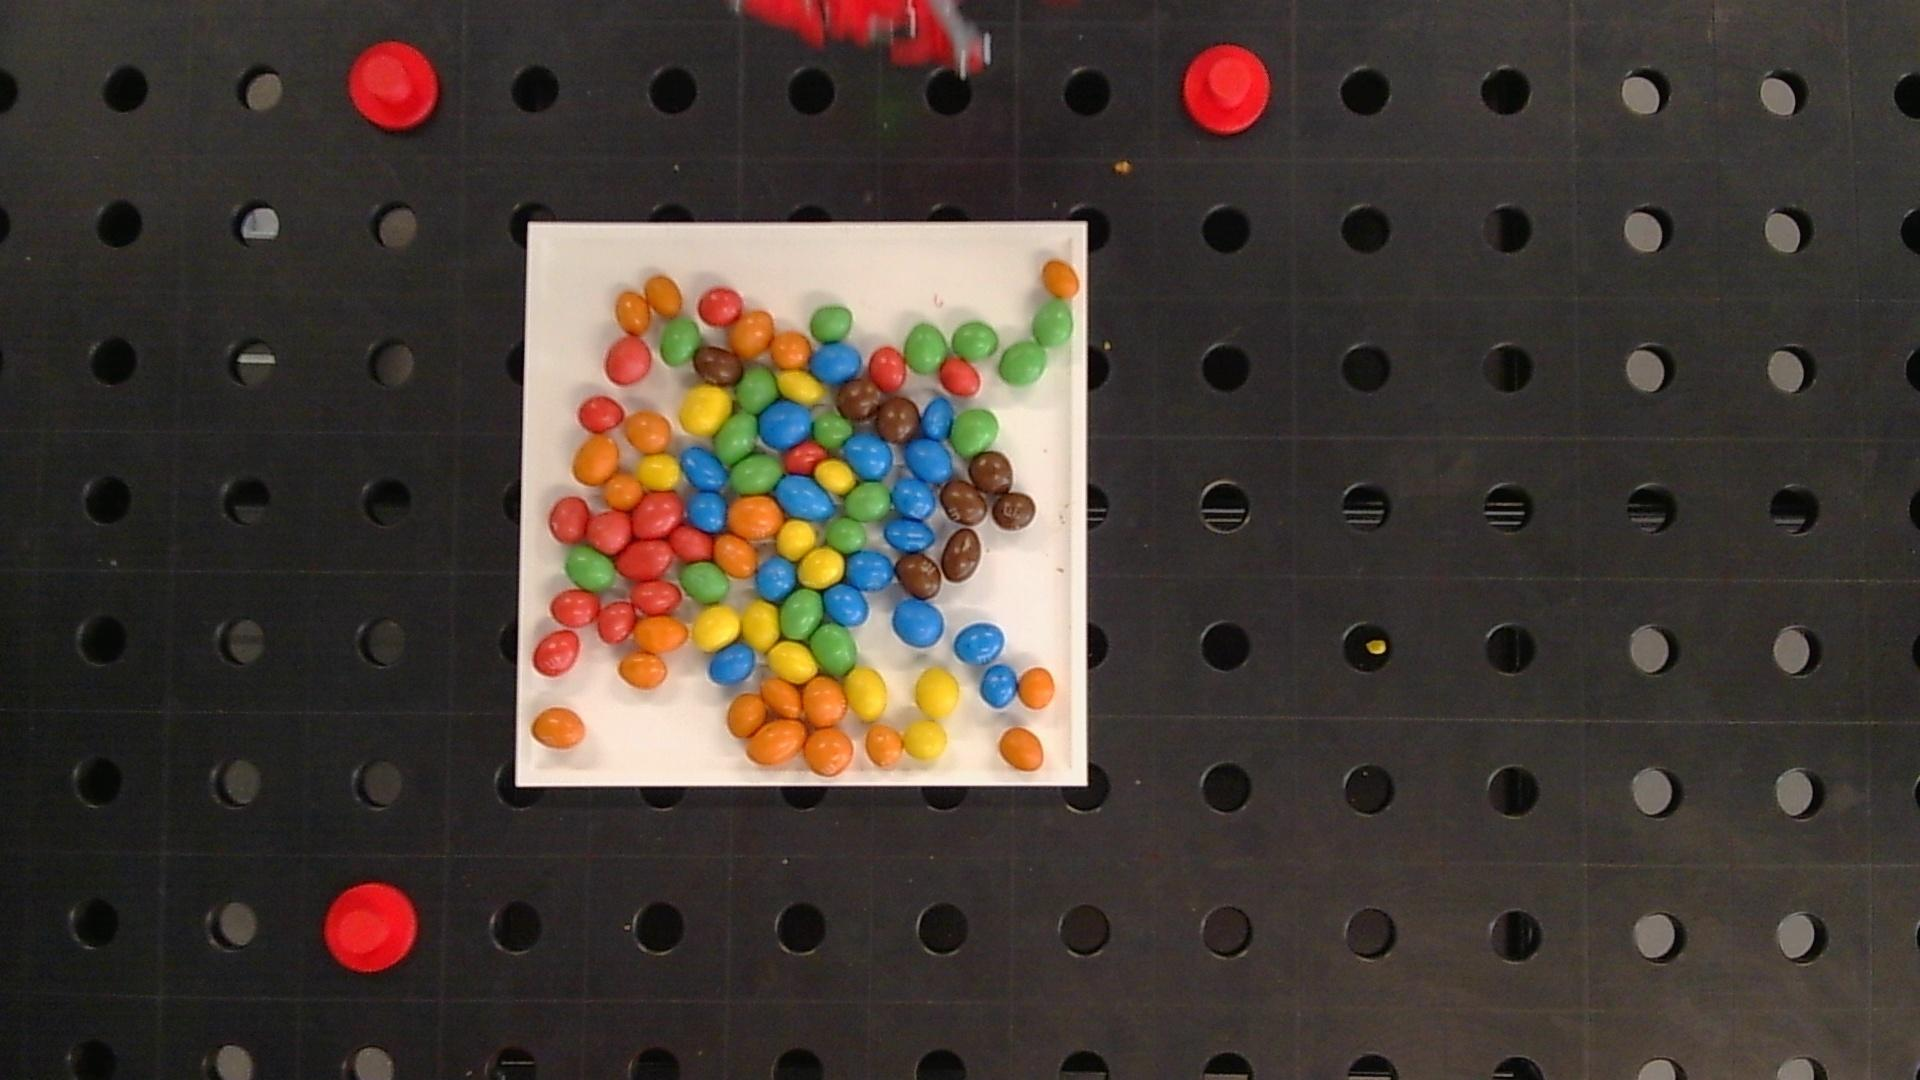blue: (777, 473, 835, 520), (893, 599, 944, 646), (760, 402, 812, 448), (844, 434, 891, 479), (905, 438, 952, 483), (955, 622, 1005, 665), (891, 477, 938, 520), (845, 551, 894, 591), (811, 344, 862, 381), (824, 584, 869, 626), (708, 644, 756, 683), (682, 448, 727, 489), (757, 556, 796, 600), (885, 518, 935, 553), (980, 665, 1018, 708), (687, 492, 727, 530), (922, 400, 953, 440)
brown: (940, 529, 981, 582), (942, 480, 988, 525), (897, 554, 942, 599), (877, 398, 920, 442), (837, 378, 881, 421), (969, 452, 1011, 493), (992, 492, 1036, 530), (696, 347, 742, 384)
green: (812, 622, 857, 674), (564, 547, 616, 591), (735, 363, 778, 414), (953, 410, 998, 458), (905, 324, 947, 373), (998, 343, 1047, 385), (781, 589, 823, 638), (715, 413, 757, 462), (680, 563, 731, 604), (731, 454, 782, 493), (1033, 301, 1073, 347), (661, 319, 700, 364), (845, 483, 890, 521), (952, 322, 998, 357), (811, 306, 853, 343), (828, 517, 866, 554), (812, 413, 852, 448)
orange: (746, 719, 806, 765), (804, 728, 855, 775), (731, 496, 782, 538), (531, 708, 585, 748), (574, 436, 618, 484), (803, 678, 847, 725), (1000, 727, 1044, 771), (731, 310, 773, 356), (634, 616, 688, 651), (713, 534, 757, 576), (625, 411, 670, 451), (618, 653, 667, 688), (727, 694, 766, 736), (865, 725, 903, 766), (762, 678, 802, 716), (1018, 667, 1055, 708), (1042, 260, 1080, 298), (616, 293, 650, 335), (646, 276, 682, 315), (604, 473, 644, 509), (771, 331, 810, 367)
red: (632, 493, 683, 537), (604, 338, 651, 384), (617, 541, 673, 579), (533, 630, 579, 675), (549, 497, 589, 542), (588, 510, 630, 553), (551, 589, 599, 625), (939, 357, 981, 397), (698, 287, 742, 324), (578, 396, 624, 431), (632, 580, 679, 613), (597, 601, 634, 644), (670, 526, 715, 560), (869, 347, 905, 389), (785, 442, 825, 473)
yellow: (680, 386, 731, 435), (845, 667, 886, 721), (915, 667, 959, 717), (766, 642, 818, 684), (692, 607, 740, 650), (799, 547, 844, 588), (741, 601, 778, 649), (903, 720, 947, 760), (777, 520, 818, 558), (777, 371, 823, 404), (815, 460, 856, 495), (638, 454, 679, 488)
